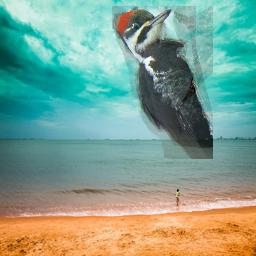Woodpecker: (112, 6, 213, 159)
